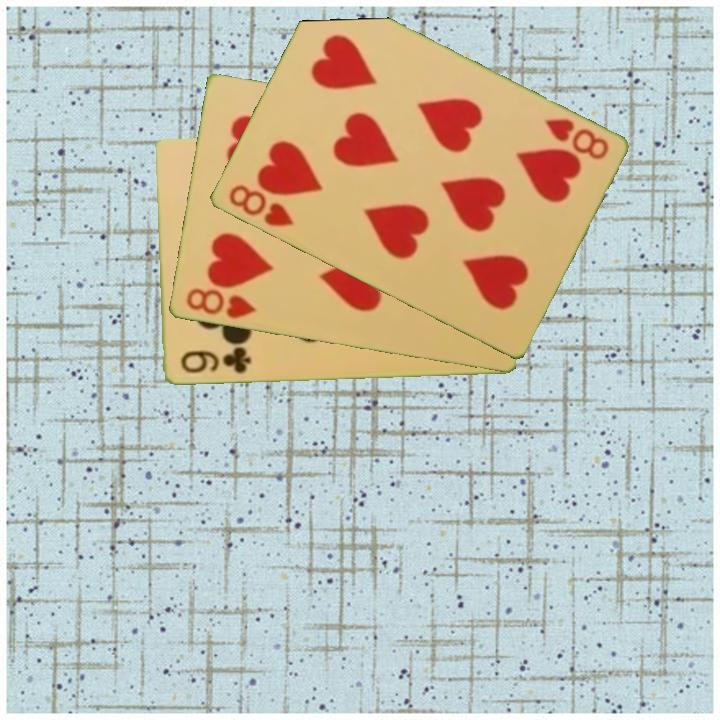8h: (224, 181, 297, 230), (540, 115, 612, 163), (182, 285, 259, 322)
9c: (177, 345, 254, 377)
